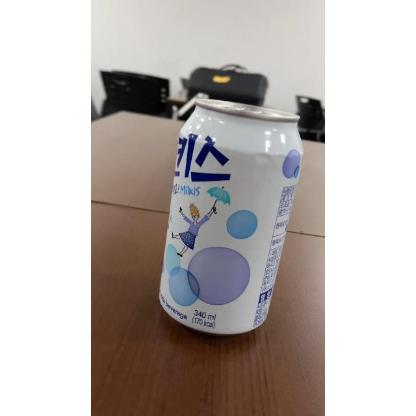Can: (155, 95, 309, 345)
